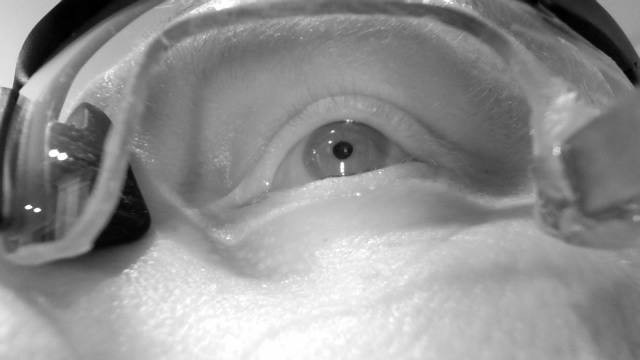pupil: (332, 140, 354, 161)
